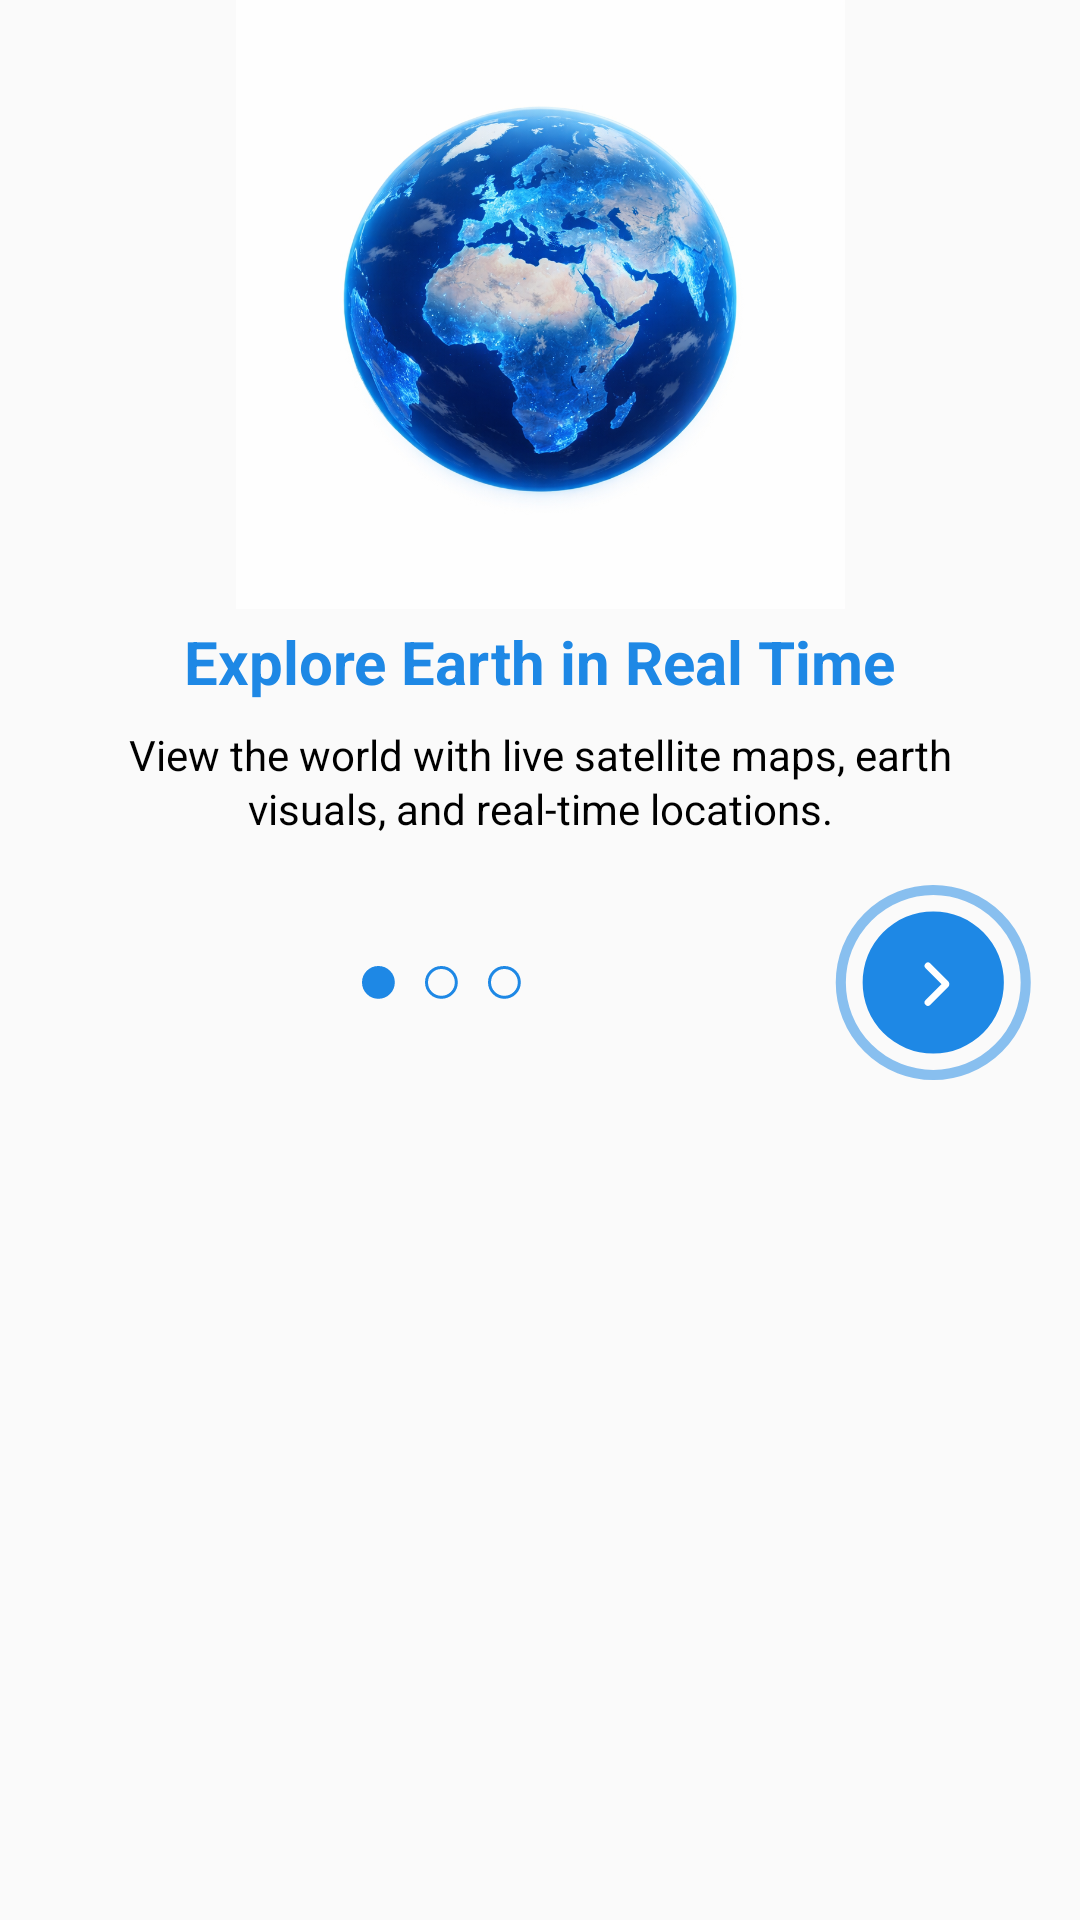

Named icons in this screenshot (1080px x 1920px) and their bounding boxes, bbox=[x1, y1, x2, y2]:
dot: bbox=[362, 966, 521, 999]
nextbtnround: bbox=[835, 885, 1031, 1080]
